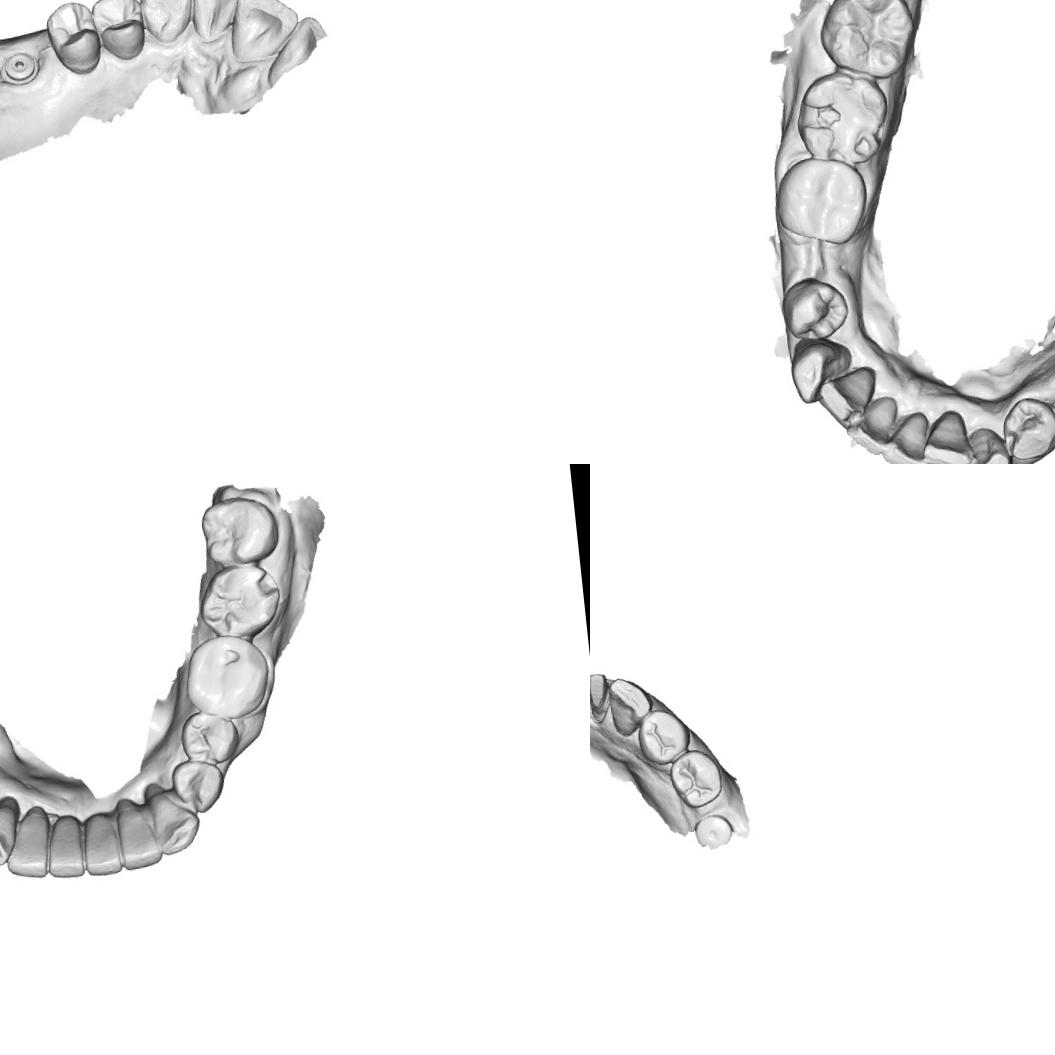canine: (149, 788, 204, 858), (604, 672, 659, 741), (790, 341, 846, 404), (135, 0, 197, 46), (952, 427, 1014, 464), (0, 799, 21, 869)
crown: (590, 668, 615, 716)
implant: (692, 810, 736, 852), (0, 47, 43, 89)
incisor: (224, 0, 302, 62), (0, 806, 55, 883), (112, 793, 164, 874), (812, 368, 876, 432), (78, 808, 127, 879), (38, 815, 88, 882), (846, 399, 898, 458), (187, 0, 250, 46), (924, 409, 976, 464), (879, 416, 935, 464)
molar: (792, 67, 897, 168), (770, 152, 870, 252), (812, 0, 920, 84), (178, 630, 274, 721), (195, 560, 282, 644), (196, 492, 283, 569)
premolar: (40, 0, 106, 80), (780, 272, 852, 342), (633, 704, 695, 770), (166, 756, 230, 818), (87, 0, 148, 65), (666, 746, 724, 813), (176, 708, 241, 767), (999, 394, 1055, 462)
